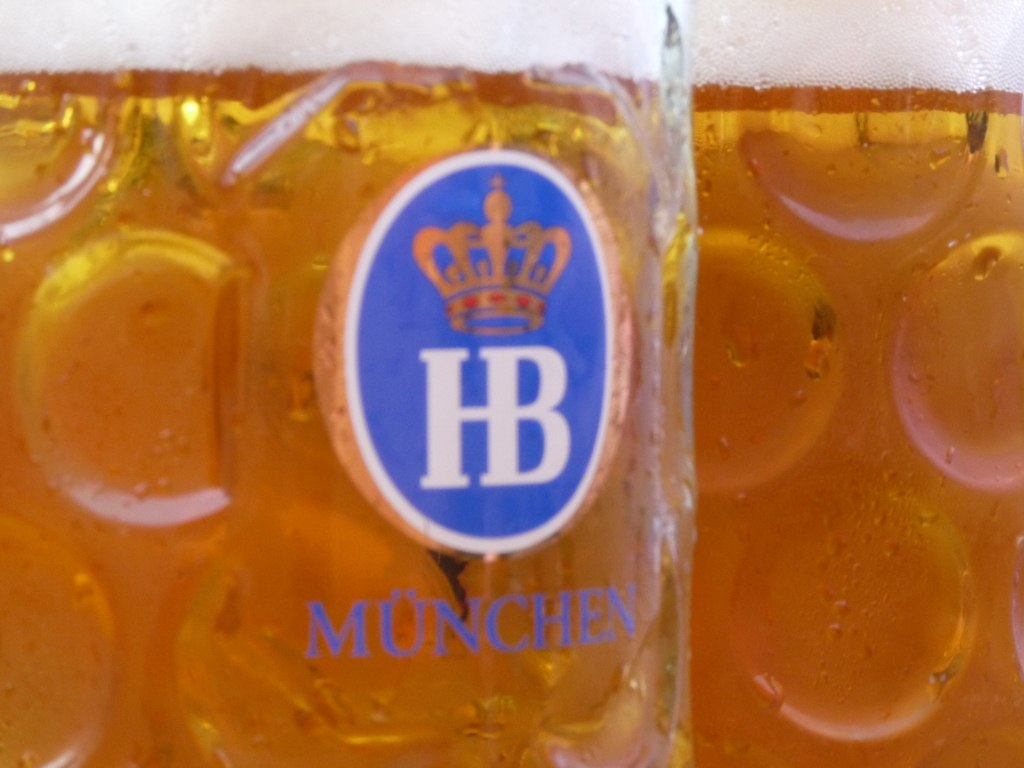Beer: (0, 0, 1023, 764)
